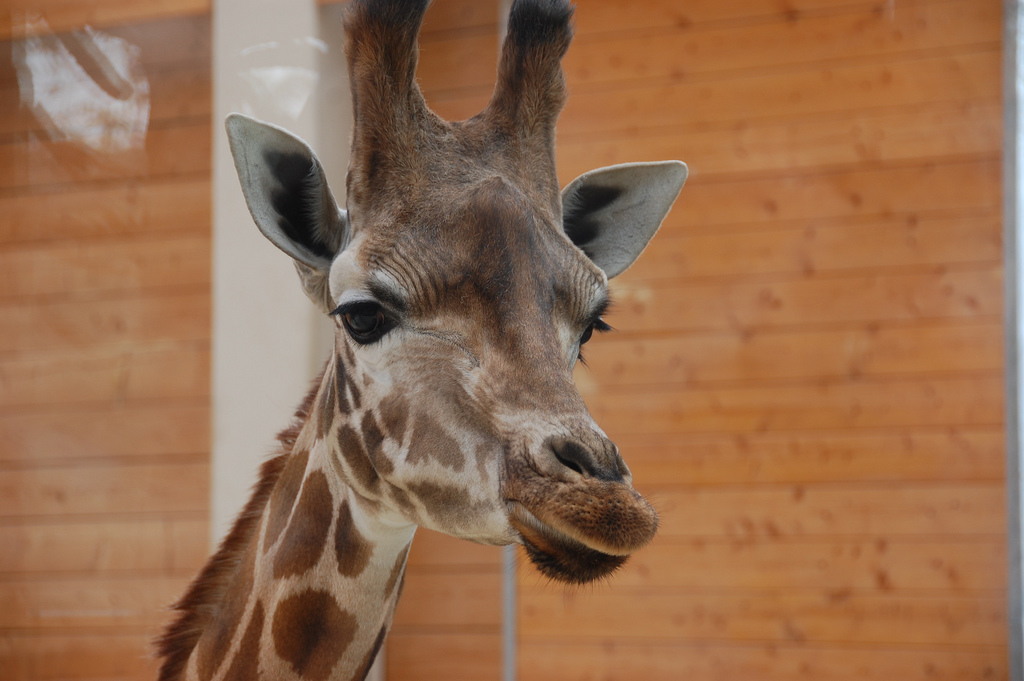giraffe: (205, 4, 697, 651)
